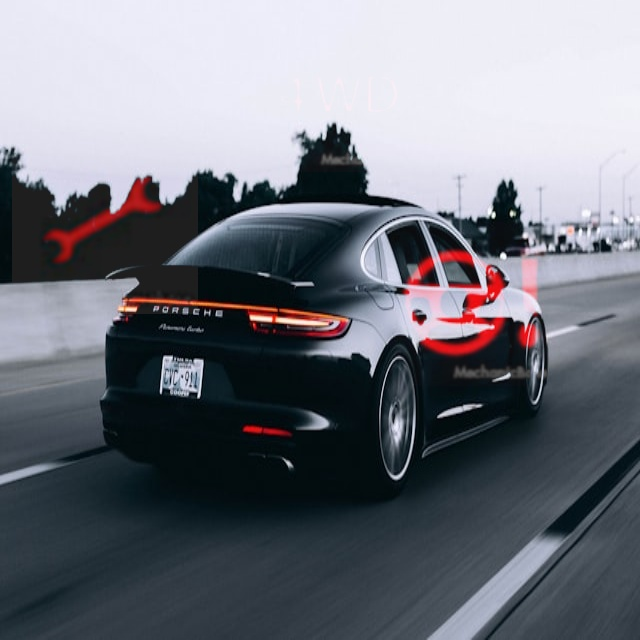symbol: (12, 128, 198, 314), (390, 222, 554, 386), (262, 20, 414, 172)
